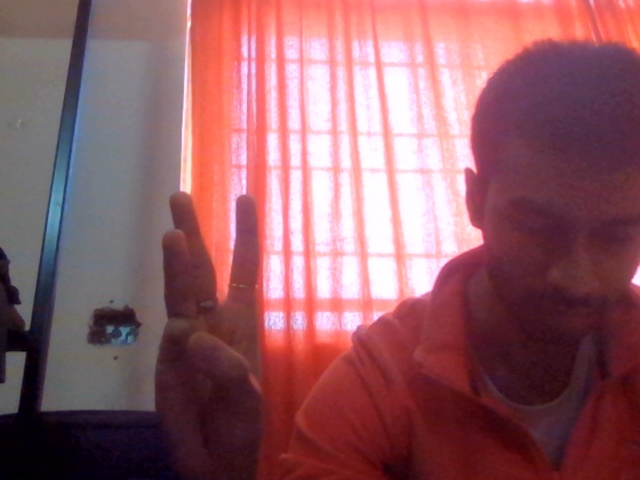W: (109, 161, 344, 480)
